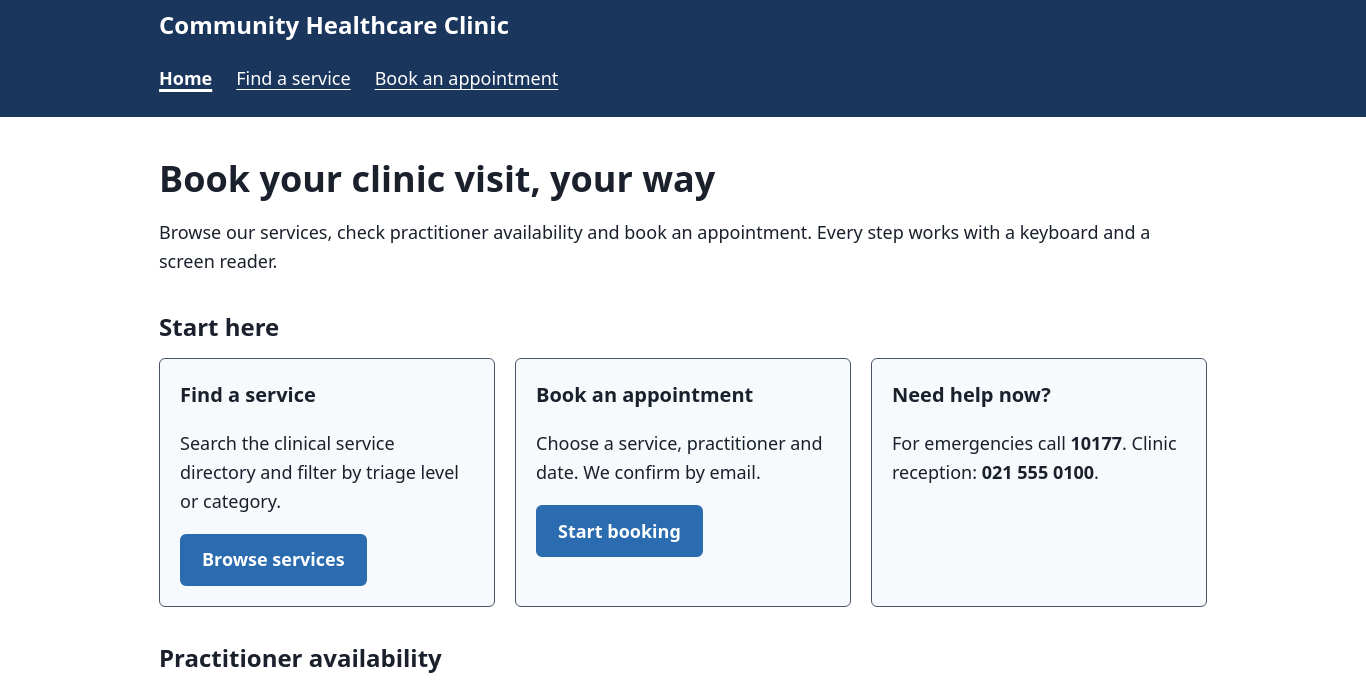
Filterable resource listing with ARIA state › preselects the service when Book is activated
Step 1. Click the button "Find a service" → [293, 79], box top-left (236, 56), bottom-right (351, 101)
(page scrolled)
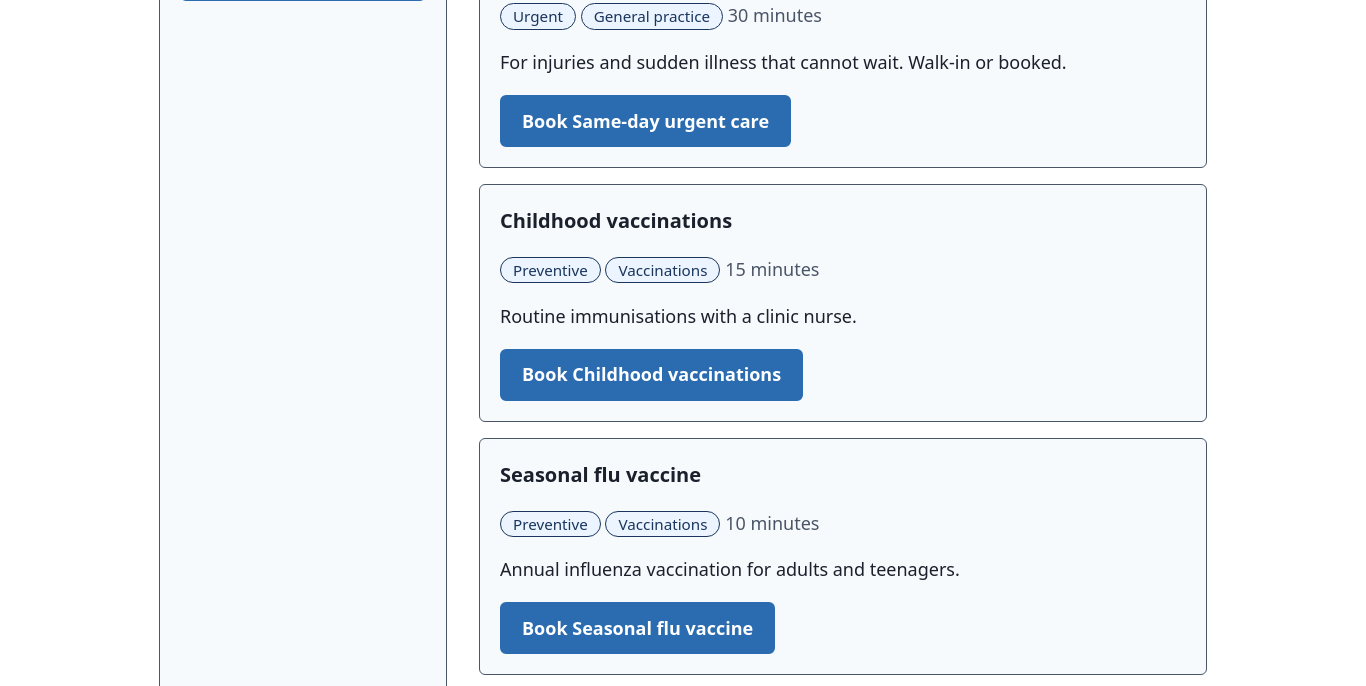
Step 2. Click the button "Book Childhood vaccinations" → [652, 374], box top-left (500, 348), bottom-right (803, 400)
(page scrolled)
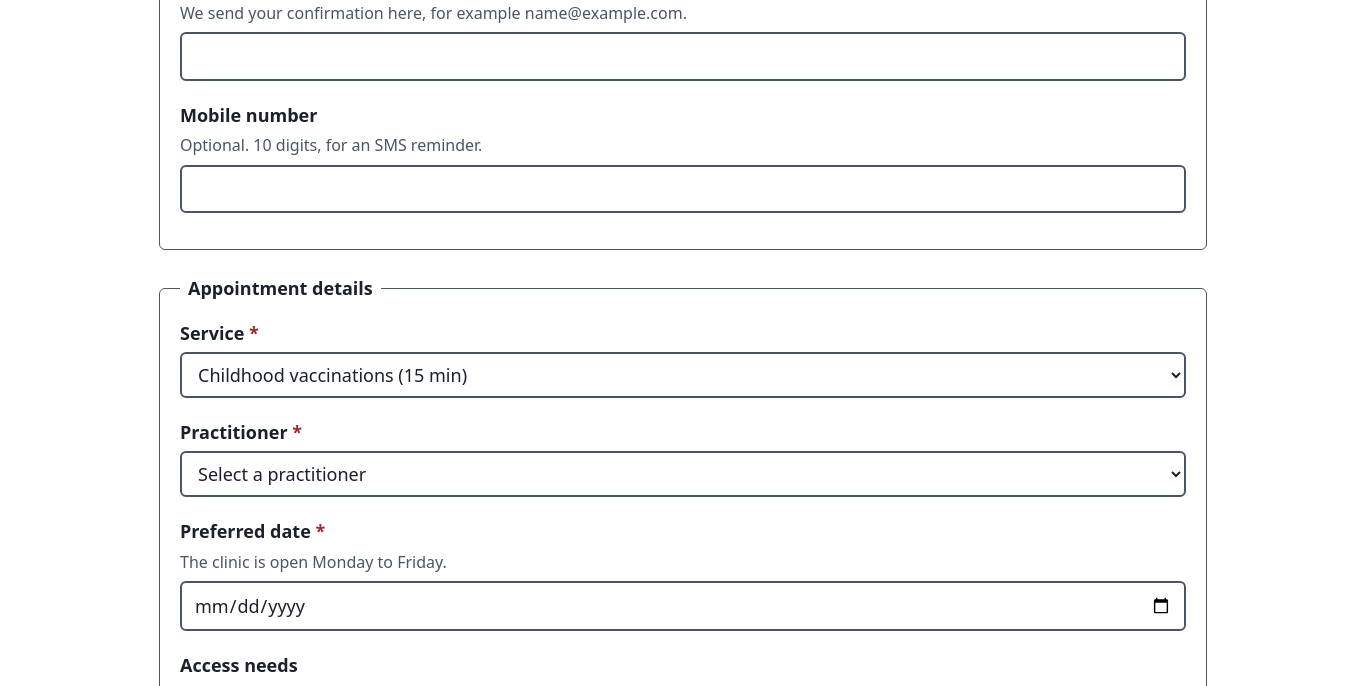
Expected: the dropdown labelled "Service *" shows "Childhood vaccinations (15 min)", top-left (180, 352), bottom-right (1186, 398)
